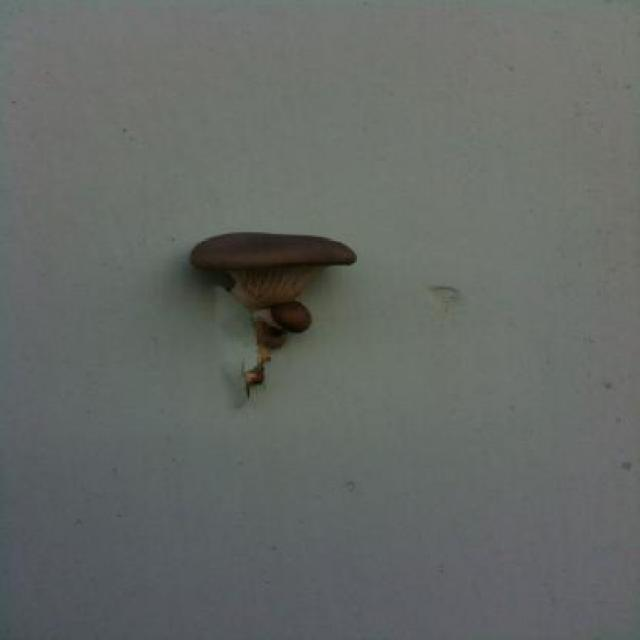Mushroom: (178, 219, 368, 384)
